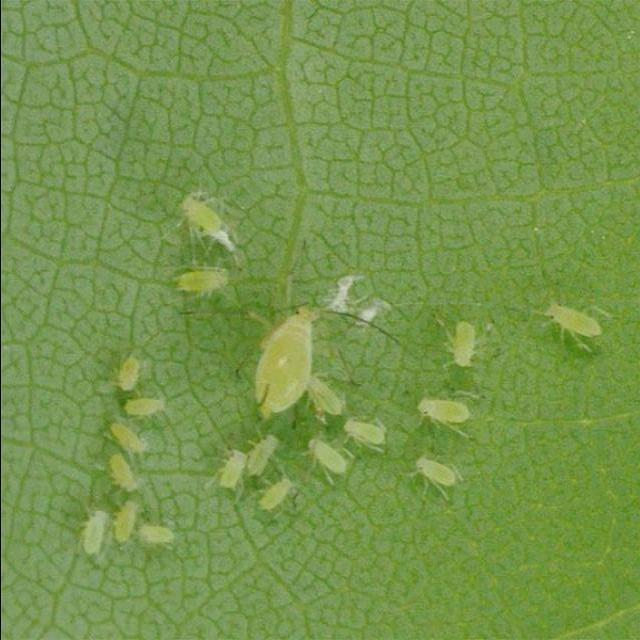aphid: (250, 276, 336, 428), (162, 179, 240, 260), (538, 286, 618, 364), (392, 454, 467, 504), (163, 258, 243, 302), (410, 383, 477, 433), (202, 440, 252, 504), (255, 464, 305, 528), (442, 306, 484, 382), (135, 509, 193, 562), (104, 407, 166, 455), (72, 501, 116, 568), (101, 383, 178, 421), (296, 436, 348, 491), (99, 350, 154, 398), (344, 402, 387, 462), (90, 457, 148, 494)
